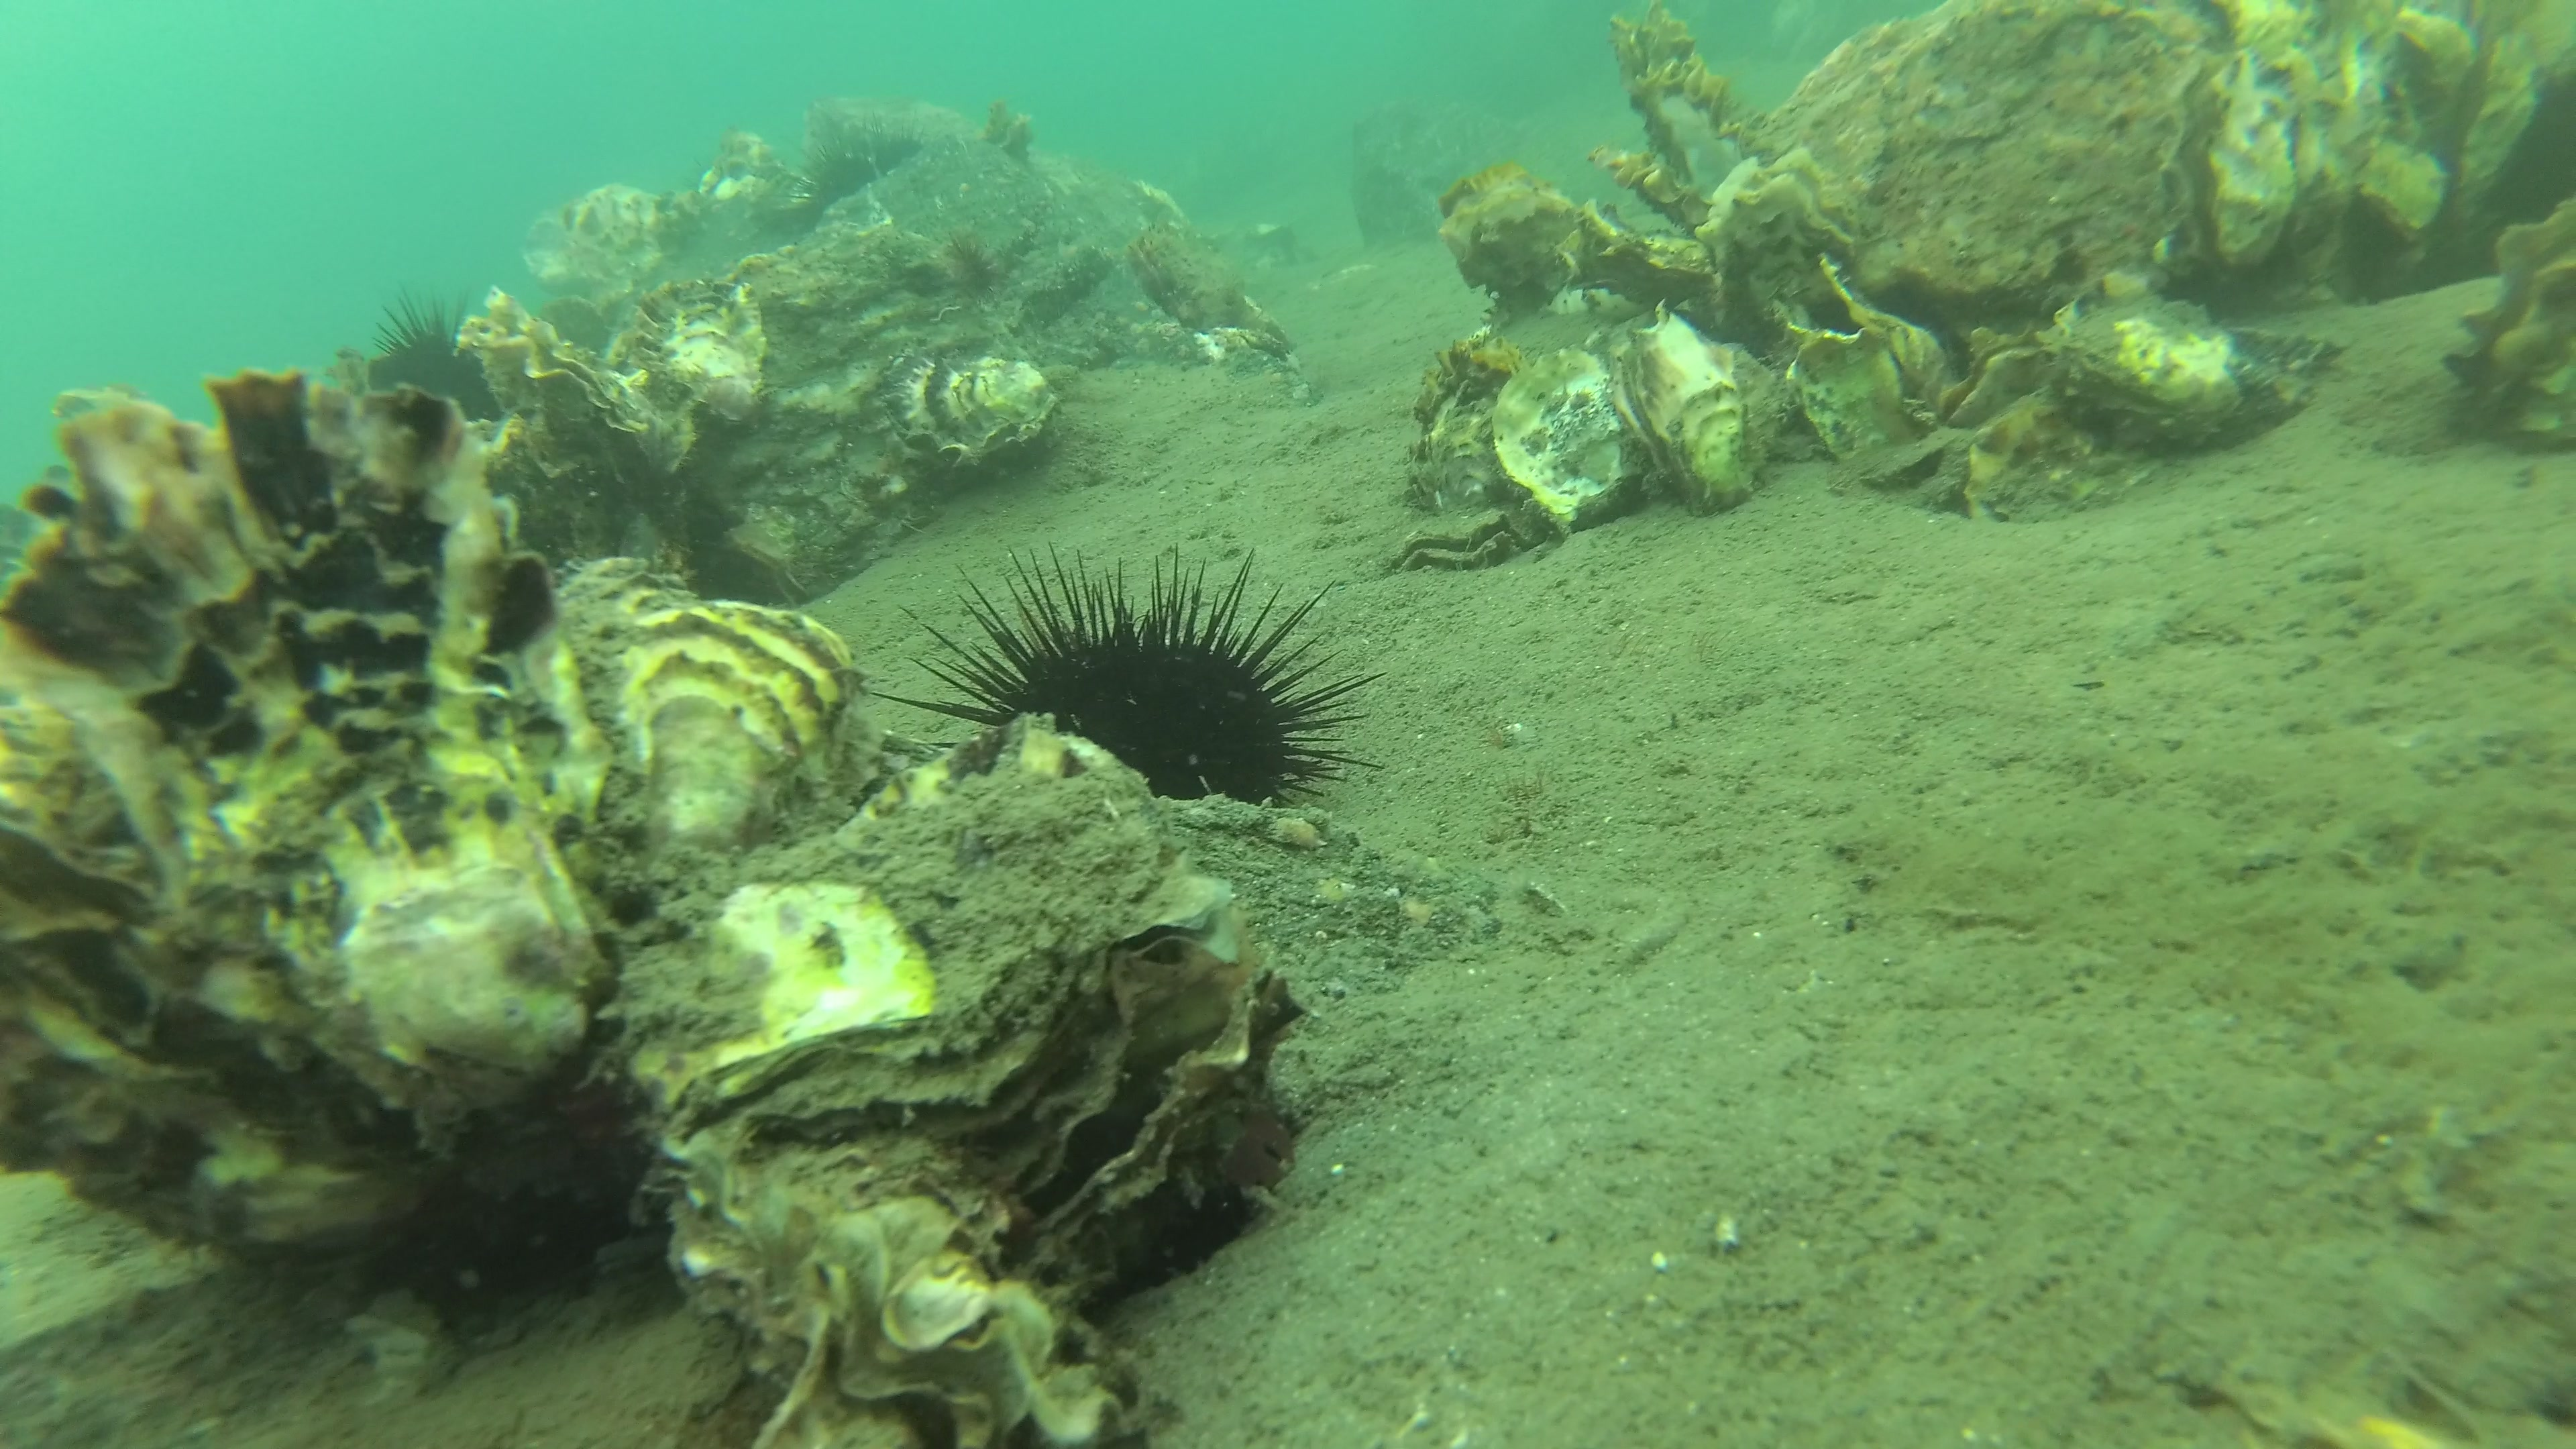echinus: (860, 538, 1392, 810), (363, 285, 506, 425), (789, 133, 878, 209), (870, 110, 927, 177), (947, 235, 1001, 301)
